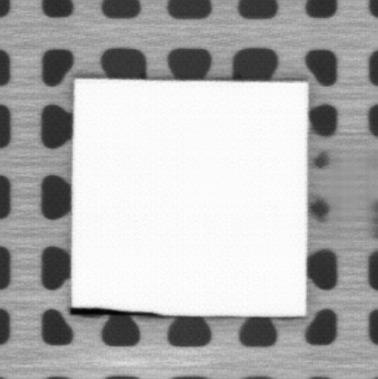DIE_BROKEN: (68, 303, 165, 318)
